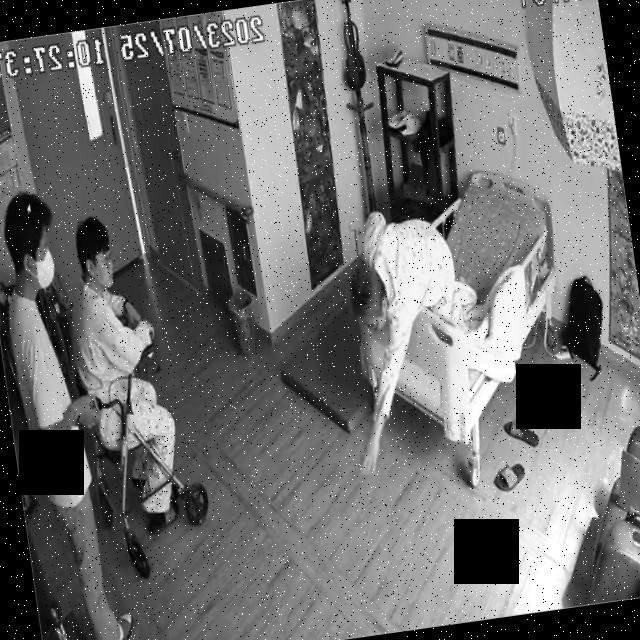danger: (324, 200, 487, 488)
patient: (324, 201, 488, 489)
